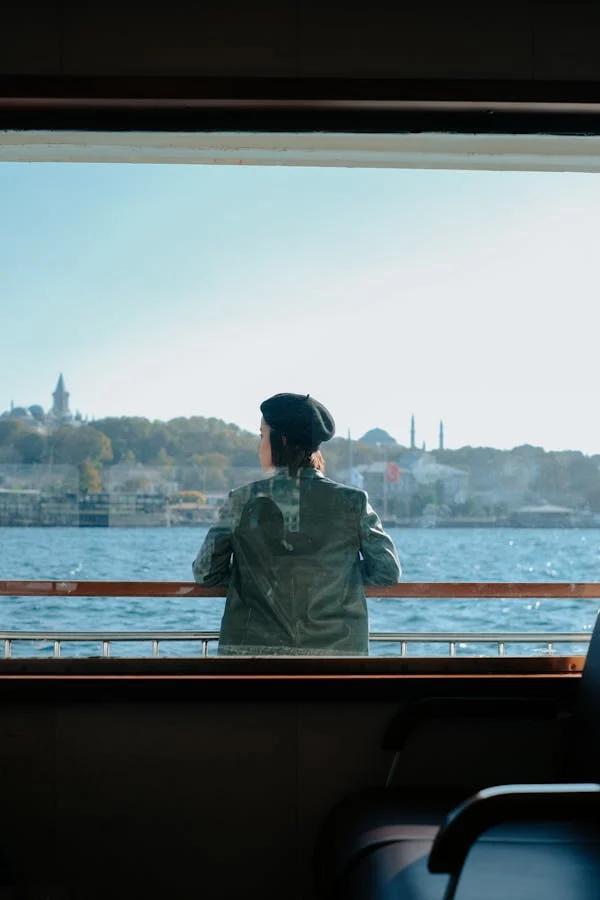Human: (203, 363, 425, 669)
